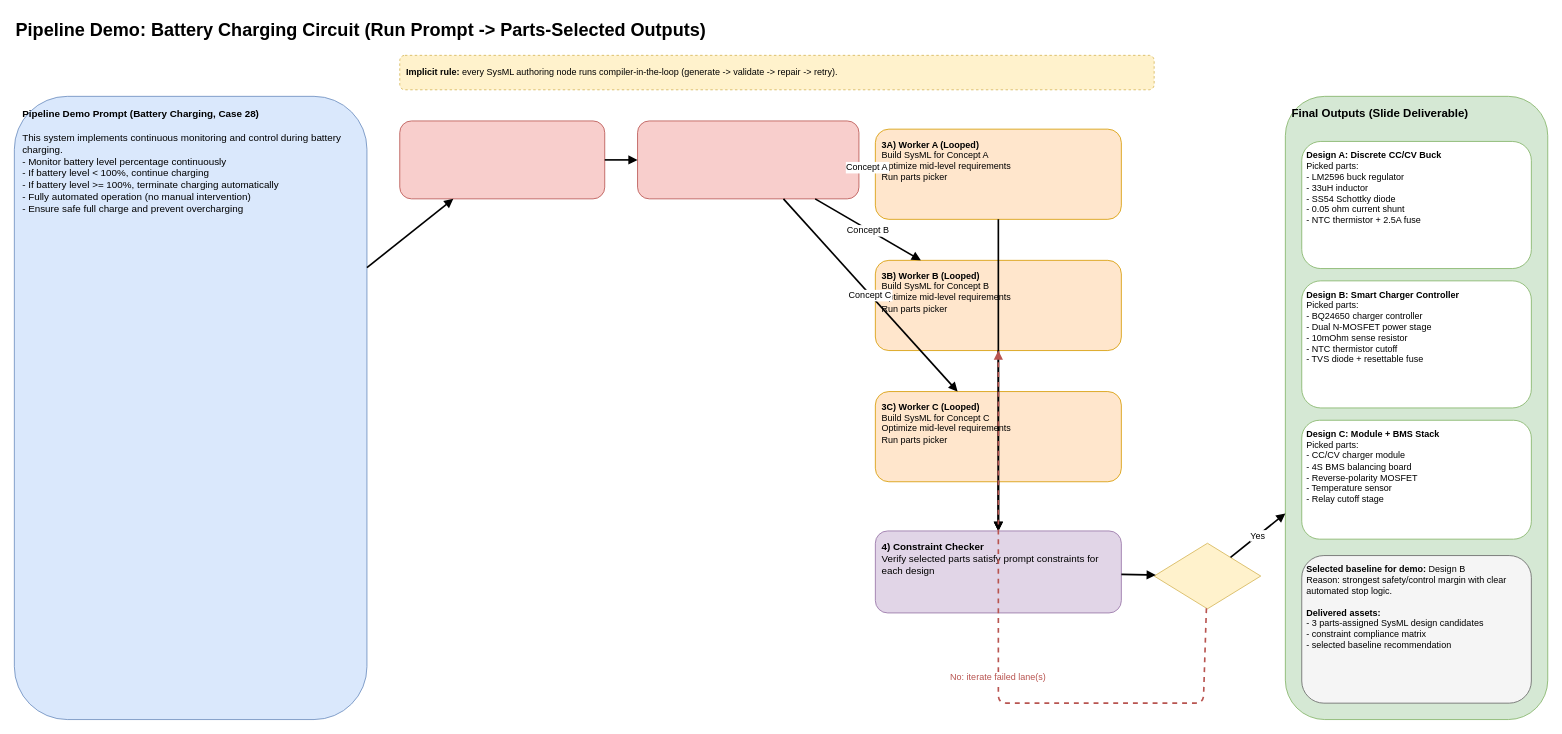
Image size: 1562x734. Some labels were removed from this diagram. Here are the shapes that lost their labels. From the top down, the centre of each, then its label:
At (502,159): "1) SysML Coding Bot (Looped) Create formal requirement model from prompt".
At (748,159): "2) Agent Brainstorms 3 Concepts A/B/C candidate charger architectures".
At (1207,575): "All pass?".
